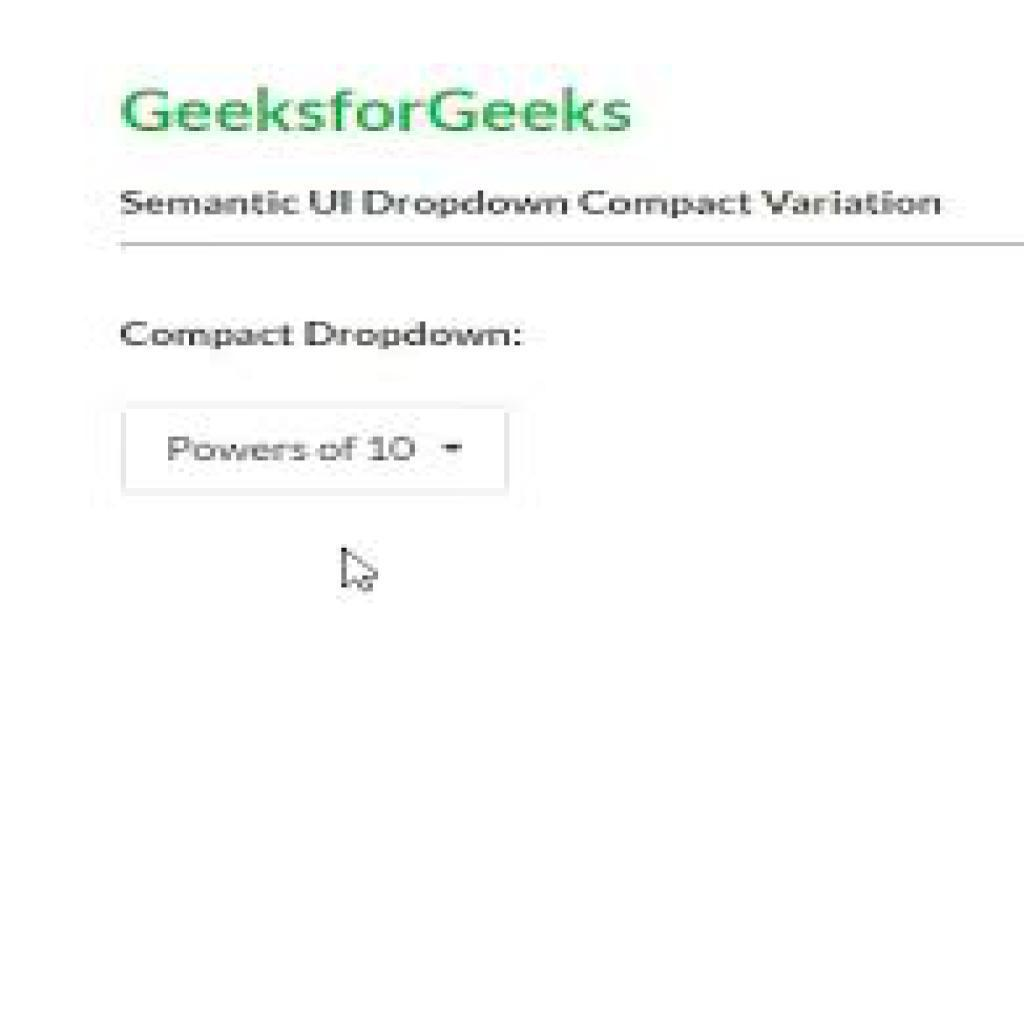dropdown: (121, 404, 507, 491)
label: (115, 306, 552, 360)
